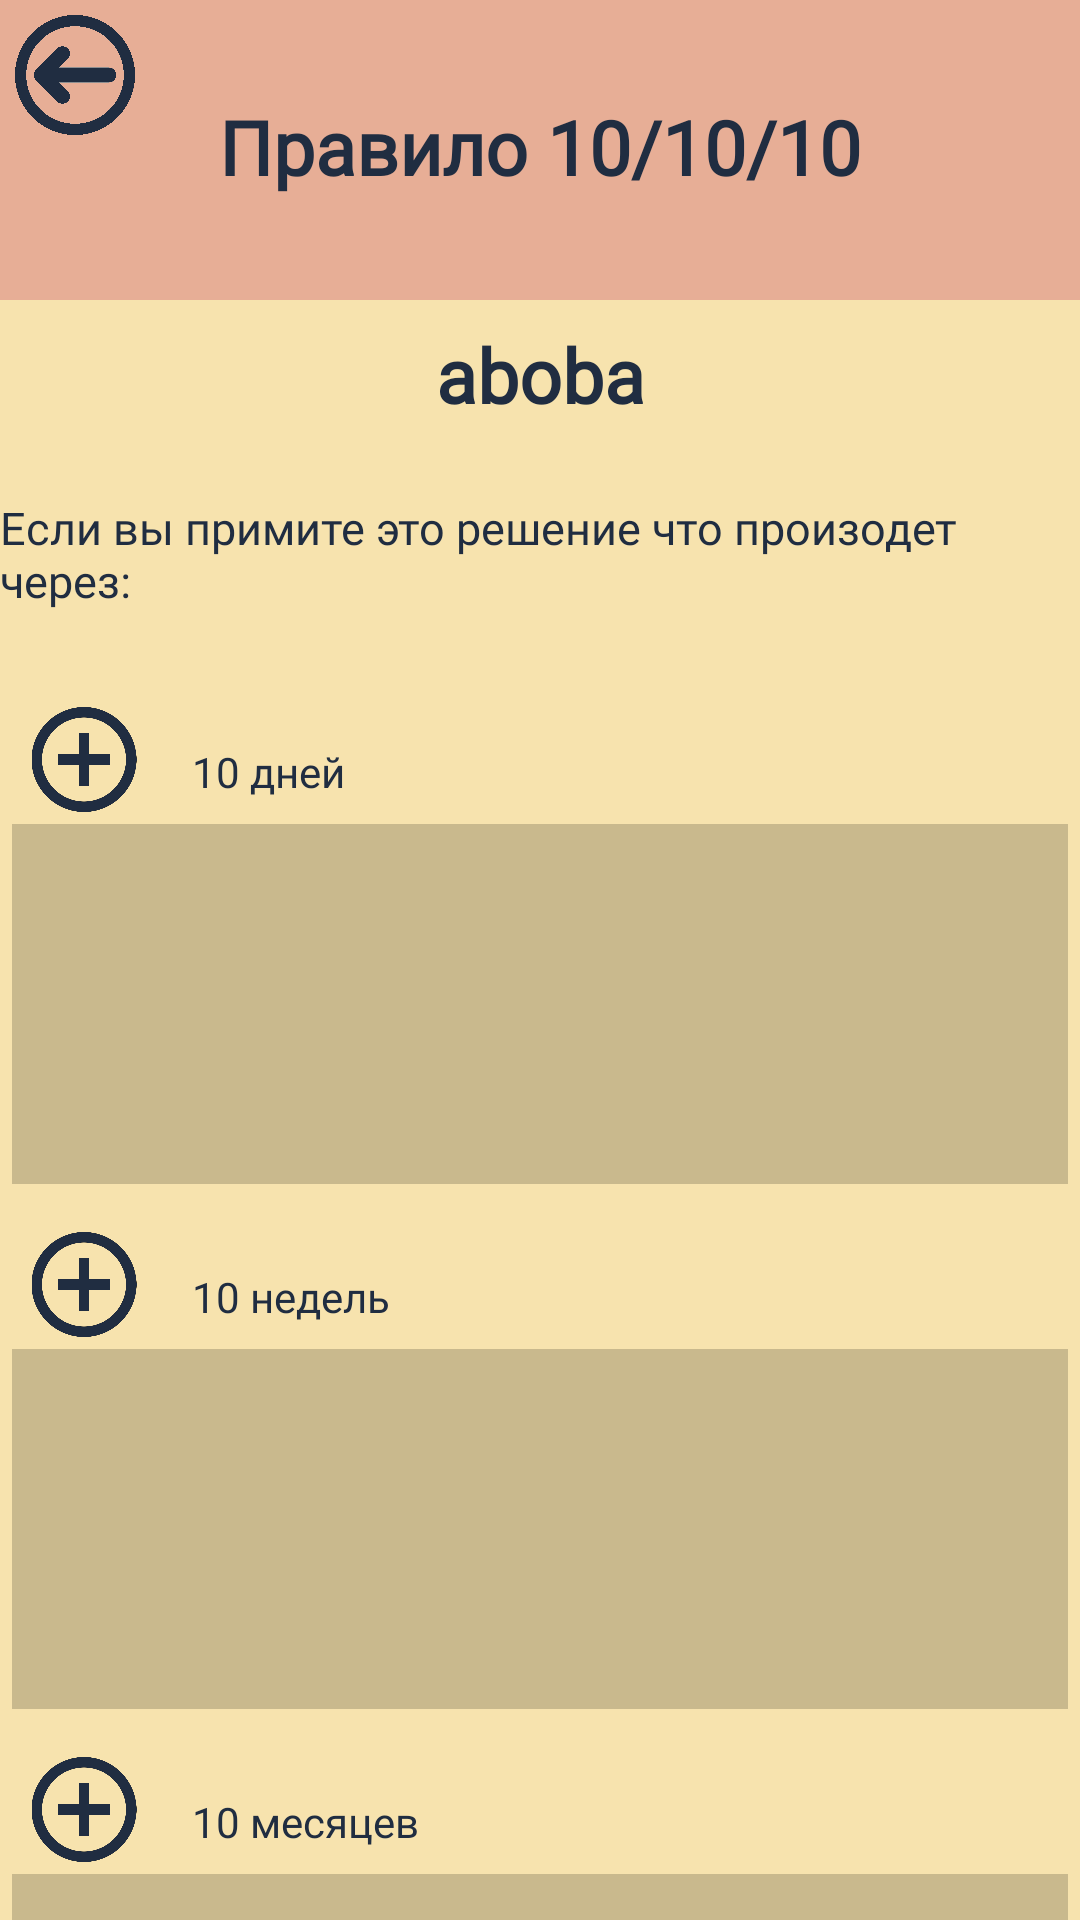

Named icons in this screenshot (1080 x 1920) and their centers, (x,y):
addbutton: (84,759), (84,1284), (84,1809)
backbutton: (75,75)
